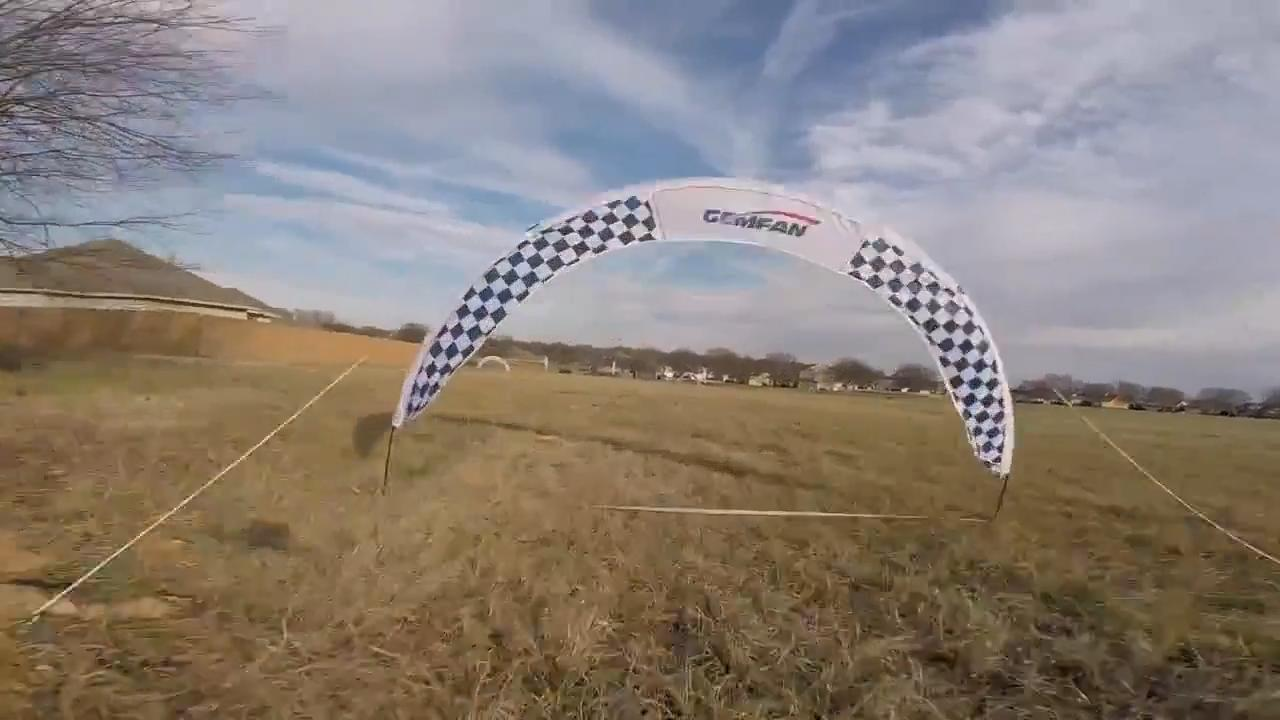gate: (389, 171, 1015, 479)
